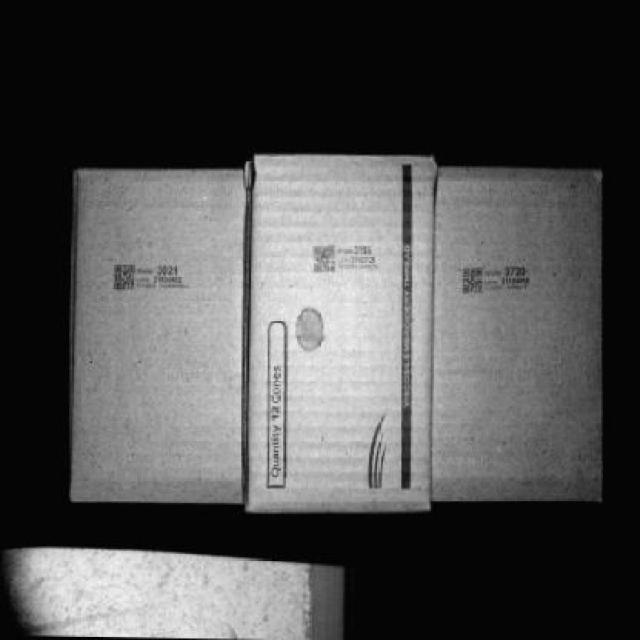cardboxes: (250, 155, 441, 514), (70, 159, 248, 506), (437, 170, 606, 499)
